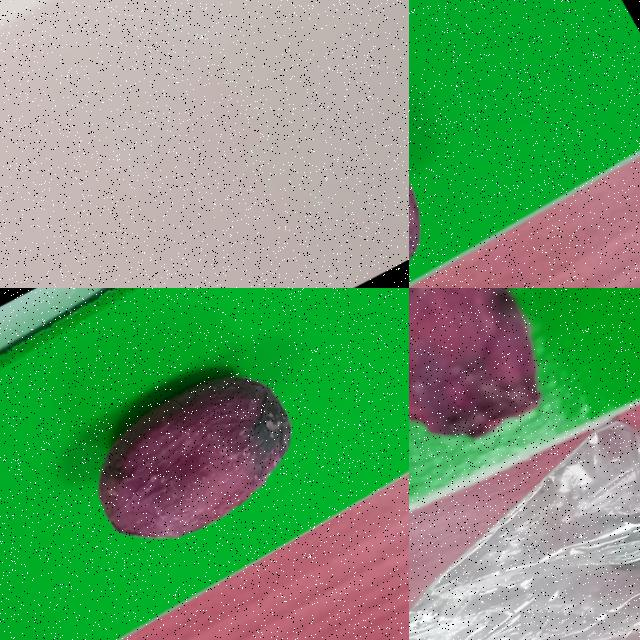Fine_cocoabeans: (0, 288, 408, 638), (0, 0, 401, 74), (409, 9, 492, 287)
Flat_cocoabeans: (409, 288, 639, 546)
